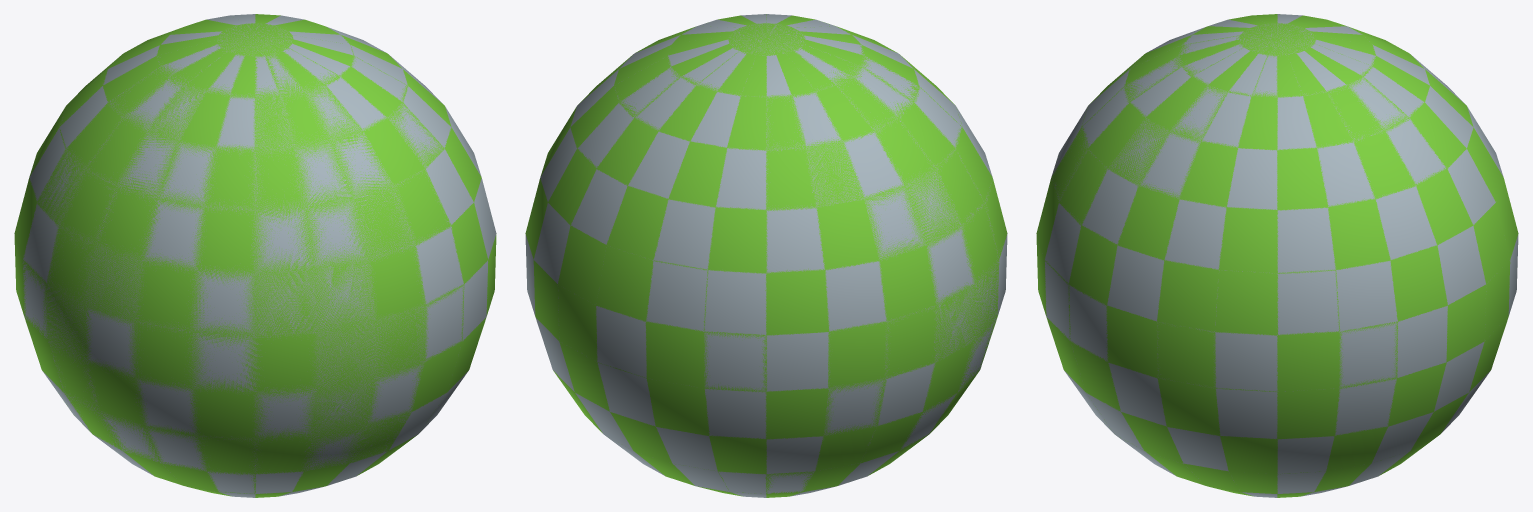
The model's file is Ball_green_01.obj.
3 renders of one model, left to right at view 1: azimuth 30°, elevation 25°; view 2: azimuth 150°, elevation 25°; view 3: azimuth 270°, elevation 25°, orthographic.
Visible parts, largest first — view 1: Mesh1 Ball_green Model; view 2: Mesh1 Ball_green Model; view 3: Mesh1 Ball_green Model.
Boxes of the visible parts, <box> form: Mesh1 Ball_green Model: <box>14,14,496,497</box>; Mesh1 Ball_green Model: <box>525,14,1007,497</box>; Mesh1 Ball_green Model: <box>1036,14,1518,497</box>.
Bounding box in the file's own units: 0.2099 × 0.2096 × 0.2099.
